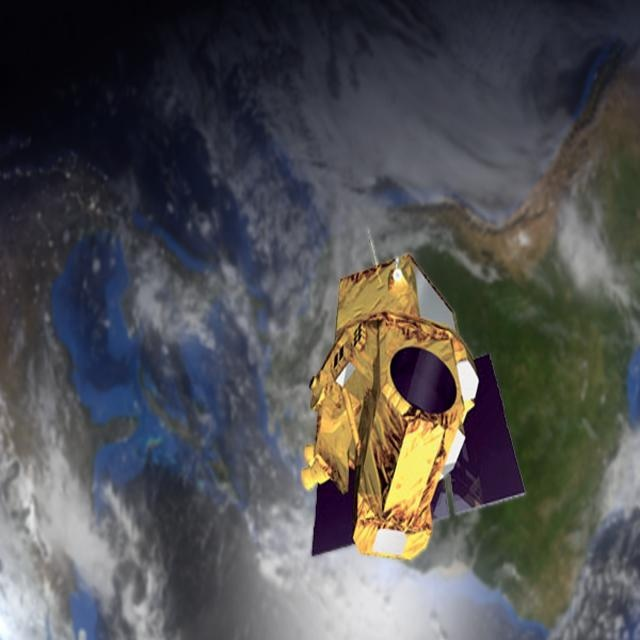medium_debris: (302, 242, 531, 573)
